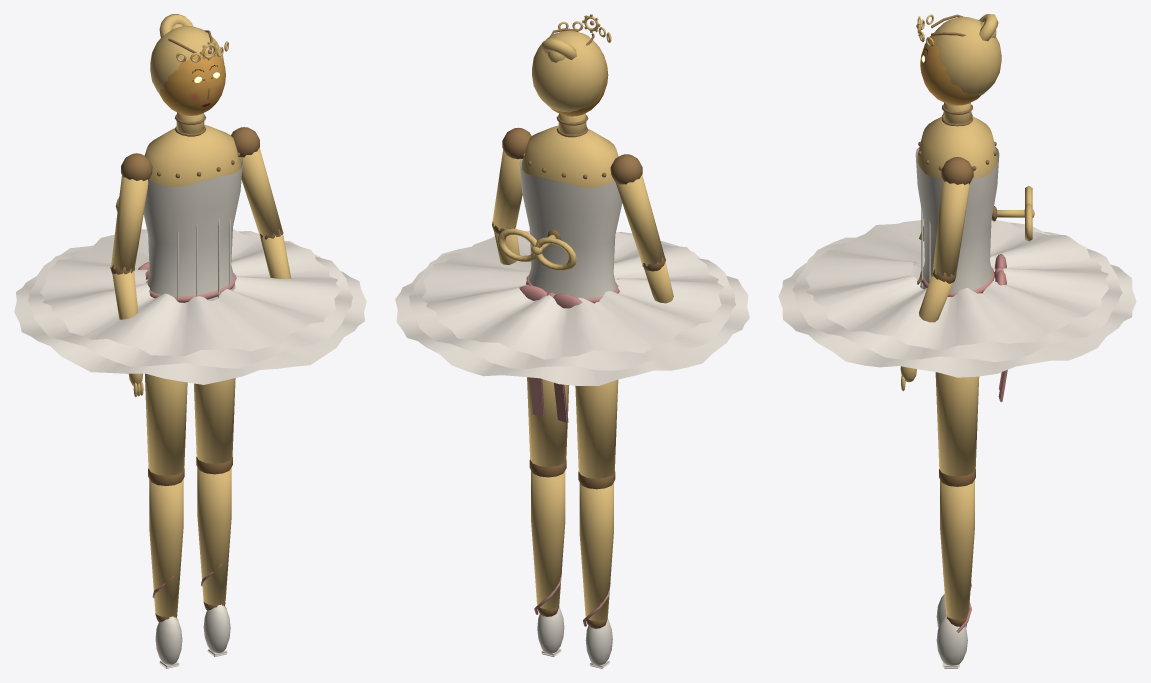
File: clockwork_ballerina.glb
3 views of the same model, side by side, from view 1: azimuth 30°, elevation 25°; view 2: azimuth 150°, elevation 25°; view 3: azimuth 270°, elevation 25° (orthographic).
Visible parts, largest first — view 1: Ballerina_Root_IvoryTulle, Ballerina_Root_IvorySatin, LegA_PolishedBrass, LegB_PolishedBrass, BrassTorso, ArmA_PolishedBrass, Head_PolishedBrass, ArmB_PolishedBrass, Face, LegA_IvorySatin, LegB_IvorySatin, ArmA_BronzeJoint (+1 smaller); view 2: Ballerina_Root_IvoryTulle, Ballerina_Root_IvorySatin, LegA_PolishedBrass, LegB_PolishedBrass, Head_PolishedBrass, BrassTorso, ArmA_PolishedBrass, ArmB_PolishedBrass, Tail_RoseRibbon, Spin_WindKey_PolishedBrass, LegA_IvorySatin, LegB_IvorySatin (+4 smaller); view 3: Ballerina_Root_IvoryTulle, LegB_PolishedBrass, Ballerina_Root_IvorySatin, Head_PolishedBrass, ArmB_PolishedBrass, BrassTorso, Face, LegB_IvorySatin, ArmB_BronzeJoint, Spin_WindKey_PolishedBrass.
Part boxes in pixels (x1,y1,x2,y2): Ballerina_Root_IvoryTulle: [14, 229, 366, 384]; Ballerina_Root_IvorySatin: [143, 158, 242, 302]; LegA_PolishedBrass: [145, 373, 187, 616]; LegB_PolishedBrass: [194, 378, 235, 605]; BrassTorso: [144, 125, 240, 186]; ArmA_PolishedBrass: [111, 175, 149, 397]; Head_PolishedBrass: [150, 14, 228, 135]; ArmB_PolishedBrass: [239, 148, 291, 278]; Face: [159, 51, 225, 115]; LegA_IvorySatin: [155, 616, 182, 668]; LegB_IvorySatin: [203, 604, 230, 656]; ArmA_BronzeJoint: [110, 153, 152, 274]; Ballerina_Root_IvoryTulle: [395, 231, 749, 385]; Ballerina_Root_IvorySatin: [519, 158, 622, 298]; LegA_PolishedBrass: [575, 379, 618, 620]; LegB_PolishedBrass: [527, 377, 568, 609]; Head_PolishedBrass: [532, 21, 611, 136]; BrassTorso: [521, 125, 618, 187]; ArmA_PolishedBrass: [616, 175, 673, 303]; ArmB_PolishedBrass: [492, 149, 522, 264]; Tail_RoseRibbon: [519, 285, 581, 422]; Spin_WindKey_PolishedBrass: [497, 228, 576, 270]; LegA_IvorySatin: [585, 618, 612, 668]; LegB_IvorySatin: [537, 606, 564, 656]; Ballerina_Root_IvoryTulle: [778, 219, 1136, 377]; LegB_PolishedBrass: [935, 372, 979, 619]; Ballerina_Root_IvorySatin: [915, 147, 999, 292]; Head_PolishedBrass: [919, 14, 1001, 123]; ArmB_PolishedBrass: [900, 179, 970, 391]; BrassTorso: [917, 116, 997, 178]; Face: [920, 31, 981, 105]; LegB_IvorySatin: [936, 615, 967, 668]; ArmB_BronzeJoint: [932, 157, 973, 283]; Spin_WindKey_PolishedBrass: [997, 186, 1034, 241].
Bounding box in the file's own units: 0.8255 × 1.63 × 0.8255.
Materials: 7 (1 with a texture image).
